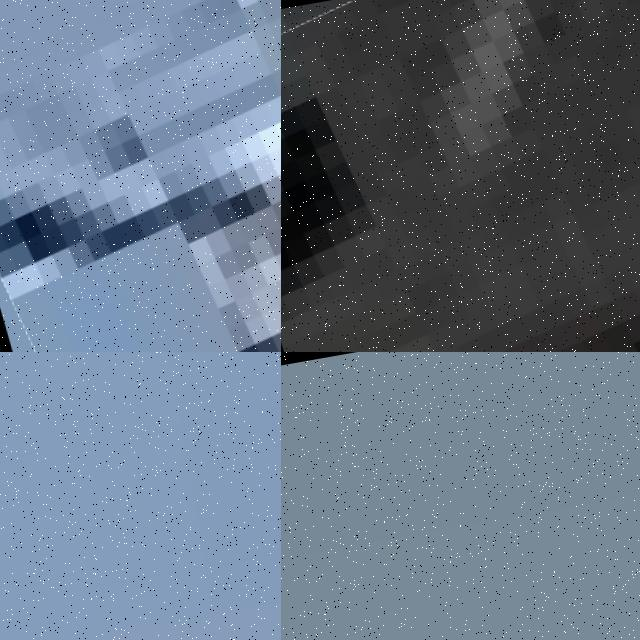0: (0, 0, 281, 352)
drone: (281, 0, 640, 352)
